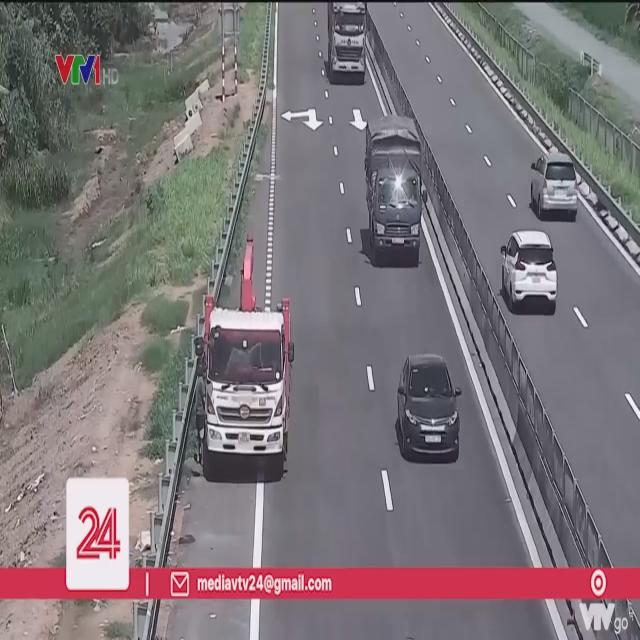car: (396, 355, 462, 463), (500, 234, 560, 316), (529, 150, 580, 223)
truck: (203, 286, 289, 473), (365, 117, 425, 267), (328, 4, 368, 82)
